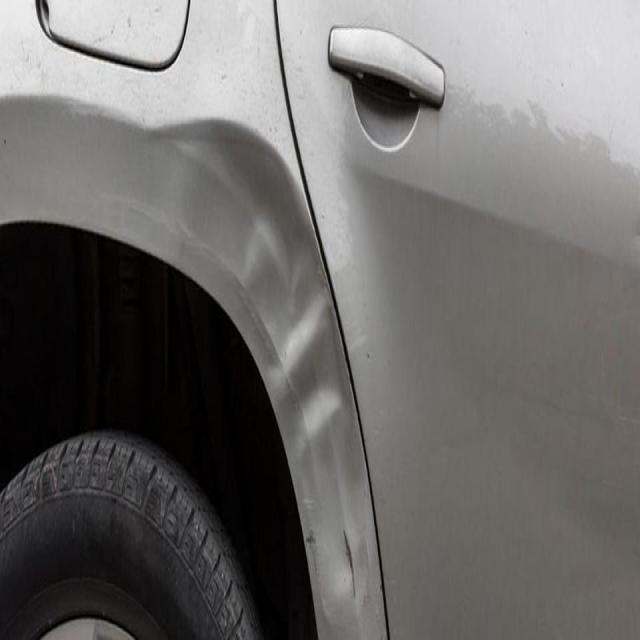dent: (193, 80, 374, 511)
